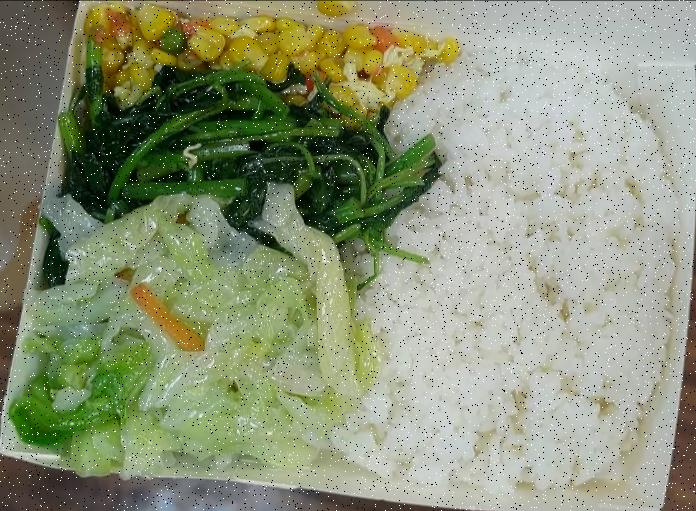box: (0, 9, 694, 511)
side dish: (18, 235, 366, 462), (51, 88, 422, 261), (82, 15, 446, 110)
white rice: (326, 61, 689, 486)
